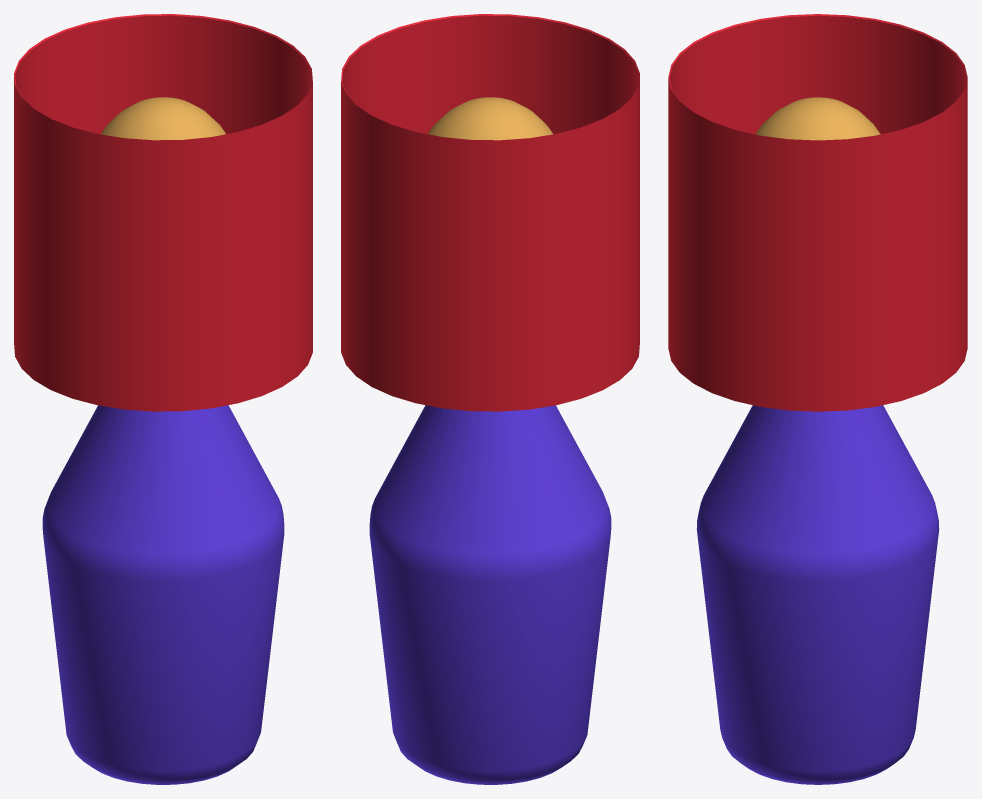
Rendered from BureauLamp.fbx.
3 renders of one model, left to right at view 1: azimuth 30°, elevation 25°; view 2: azimuth 150°, elevation 25°; view 3: azimuth 270°, elevation 25°, orthographic.
Visible parts, largest first — view 1: TopPart, BottomPart, LampItself; view 2: TopPart, BottomPart, LampItself; view 3: TopPart, BottomPart, LampItself.
Part boxes in pixels (<box>): TopPart: <box>14,14,312,411</box>; BottomPart: <box>42,405,284,784</box>; LampItself: <box>101,97,225,140</box>; TopPart: <box>341,14,639,411</box>; BottomPart: <box>369,405,611,784</box>; LampItself: <box>428,97,552,140</box>; TopPart: <box>668,14,967,411</box>; BottomPart: <box>696,405,939,784</box>; LampItself: <box>755,97,880,140</box>.
Bounding box in the file's own units: 35.82 × 89.29 × 35.82.
